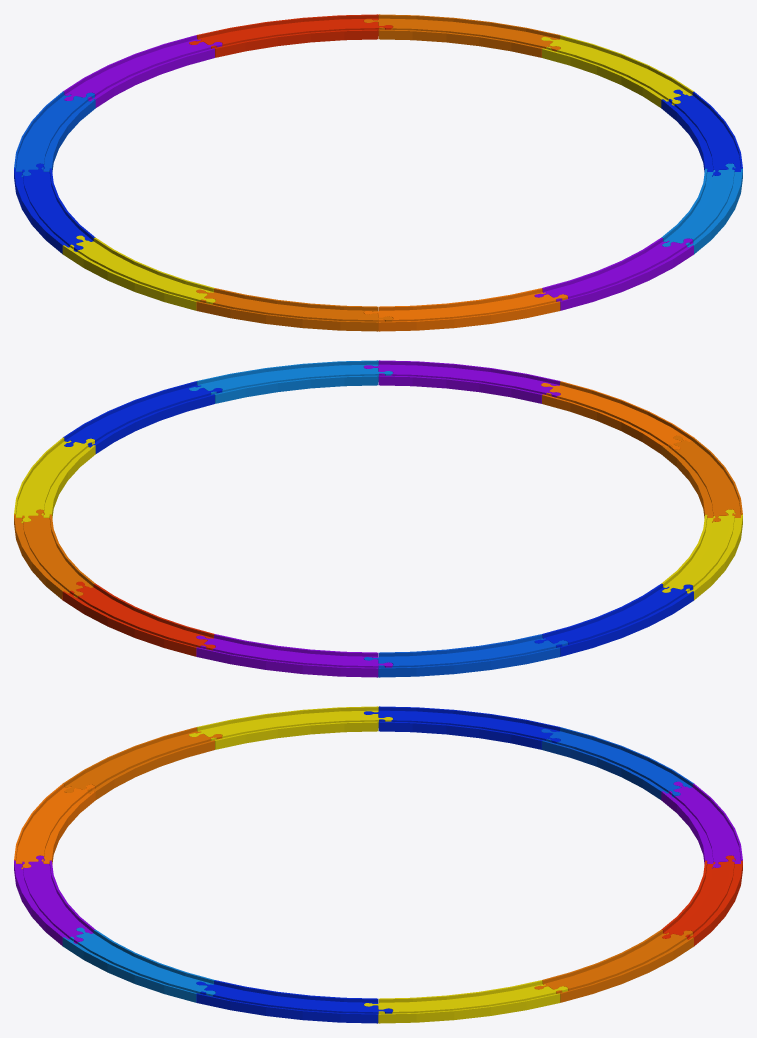
File: TrainTrack.fbx
3 views of the same model, one above another, from view 1: azimuth 30°, elevation 25°; view 2: azimuth 150°, elevation 25°; view 3: azimuth 270°, elevation 25° (orthographic).
Visible parts, largest first — view 1: RaceTrack_01, RaceTrack_18, RaceTrack_27, RaceTrack_23, RaceTrack_16, RaceTrack_20, RaceTrack_22, RaceTrack_26, RaceTrack_19, RaceTrack_21, RaceTrack_24, RaceTrack_25; view 2: RaceTrack_22, RaceTrack_21, RaceTrack_20, RaceTrack_24, RaceTrack_23, RaceTrack_19, RaceTrack_25, RaceTrack_18, RaceTrack_27, RaceTrack_26, RaceTrack_16, RaceTrack_01; view 3: RaceTrack_25, RaceTrack_26, RaceTrack_19, RaceTrack_16, RaceTrack_24, RaceTrack_27, RaceTrack_01, RaceTrack_21, RaceTrack_20, RaceTrack_18, RaceTrack_23, RaceTrack_22.
Part boxes in pixels (box(x1,y1,x2,y2)): RaceTrack_01: box(196, 288, 392, 331); RaceTrack_18: box(364, 288, 567, 331); RaceTrack_27: box(364, 14, 560, 57); RaceTrack_23: box(189, 14, 392, 57); RaceTrack_16: box(62, 235, 215, 310); RaceTrack_20: box(534, 237, 693, 310); RaceTrack_22: box(63, 35, 222, 107); RaceTrack_26: box(541, 35, 693, 107); RaceTrack_19: box(14, 163, 95, 253); RaceTrack_21: box(14, 91, 95, 177); RaceTrack_24: box(661, 163, 742, 254); RaceTrack_25: box(661, 89, 742, 176); RaceTrack_22: box(196, 634, 392, 677); RaceTrack_21: box(364, 634, 567, 677); RaceTrack_20: box(364, 360, 560, 403); RaceTrack_24: box(189, 360, 392, 403); RaceTrack_23: box(62, 581, 215, 656); RaceTrack_19: box(534, 583, 693, 656); RaceTrack_25: box(63, 381, 222, 453); RaceTrack_18: box(541, 381, 693, 453); RaceTrack_27: box(14, 509, 95, 599); RaceTrack_26: box(14, 437, 95, 523); RaceTrack_16: box(661, 509, 742, 600); RaceTrack_01: box(661, 435, 742, 522); RaceTrack_25: box(196, 980, 392, 1023); RaceTrack_26: box(364, 980, 567, 1023); RaceTrack_19: box(364, 706, 560, 749); RaceTrack_16: box(189, 706, 392, 749); RaceTrack_24: box(62, 927, 215, 1002); RaceTrack_27: box(534, 929, 693, 1002); RaceTrack_01: box(63, 727, 222, 799); RaceTrack_21: box(541, 727, 693, 799); RaceTrack_20: box(14, 855, 95, 945); RaceTrack_18: box(14, 783, 95, 869); RaceTrack_23: box(661, 855, 742, 946); RaceTrack_22: box(661, 781, 742, 868).
Size of the model in its own units: 263 by 3.59 by 263.
